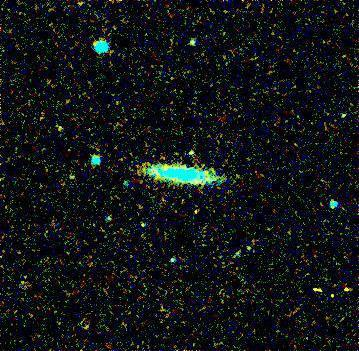star: (177, 138, 207, 168)
